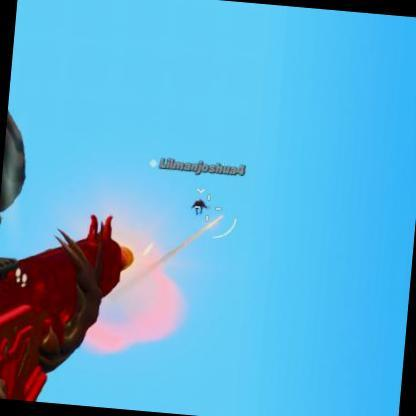person: (191, 199, 208, 221)
